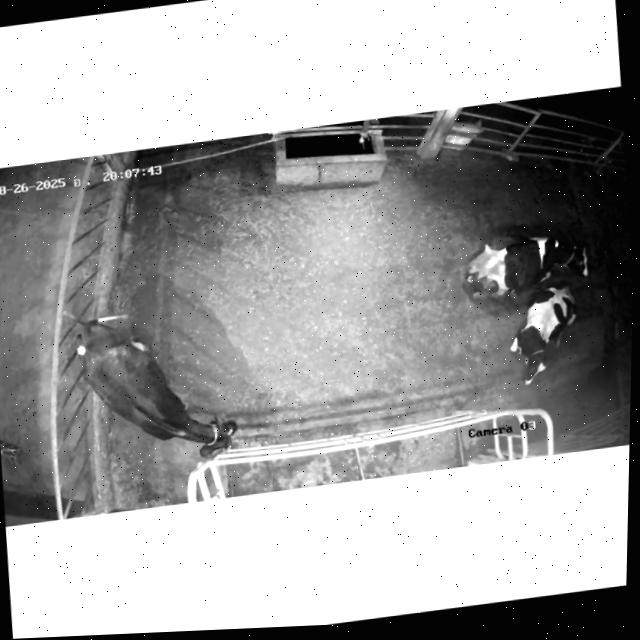stand: (67, 291, 259, 472)
